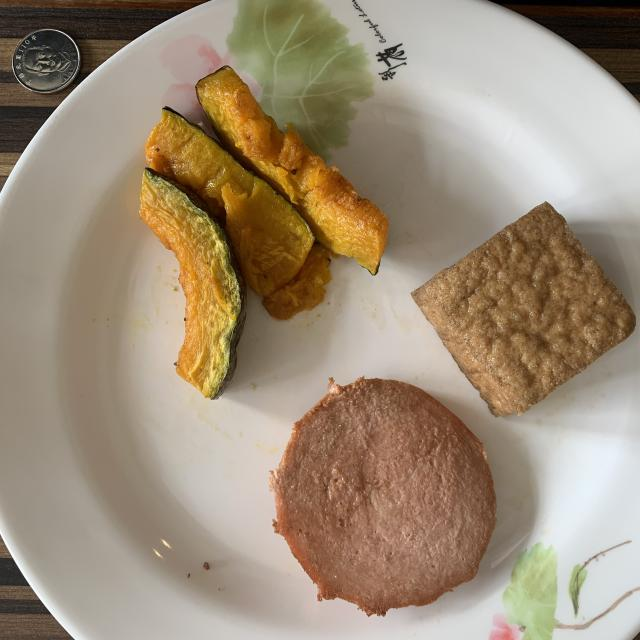Spam: (269, 378, 496, 615)
coin: (12, 29, 80, 94)
egg tofu: (411, 202, 636, 416)
pumpkin: (140, 66, 388, 399)
